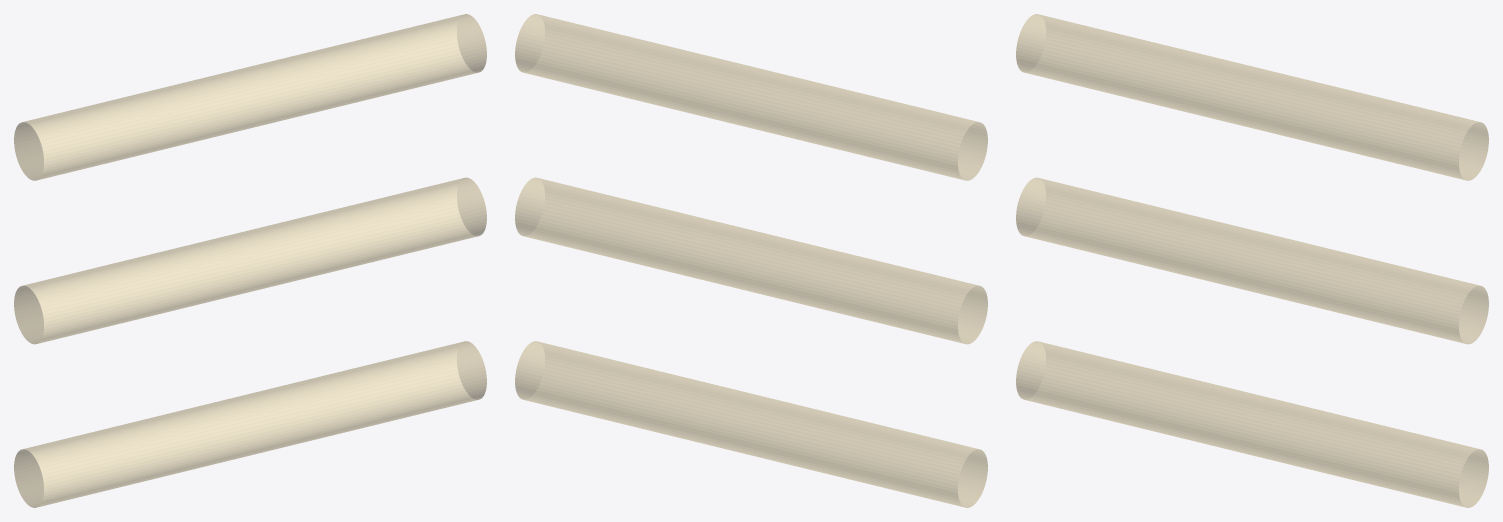
The model's file is tinker.obj.
3 views of the same model, side by side, from view 1: azimuth 30°, elevation 25°; view 2: azimuth 150°, elevation 25°; view 3: azimuth 330°, elevation 25° (orthographic).
Parts seen in each view (by area): view 1: obj_0, obj_2, obj_1; view 2: obj_0, obj_2, obj_1; view 3: obj_0, obj_2, obj_1.
Boxes of the visible parts, bbox=[...] form: obj_0: bbox=[14, 341, 486, 507]; obj_2: bbox=[14, 14, 486, 180]; obj_1: bbox=[14, 177, 486, 344]; obj_0: bbox=[515, 341, 987, 507]; obj_2: bbox=[515, 14, 987, 180]; obj_1: bbox=[515, 177, 987, 344]; obj_0: bbox=[1016, 341, 1488, 507]; obj_2: bbox=[1016, 14, 1488, 180]; obj_1: bbox=[1016, 177, 1488, 344].
Size of the model in its own units: 17 by 14 by 2.
